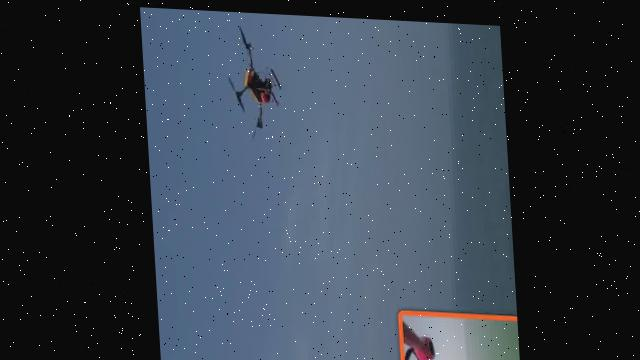drone: (217, 9, 291, 133)
